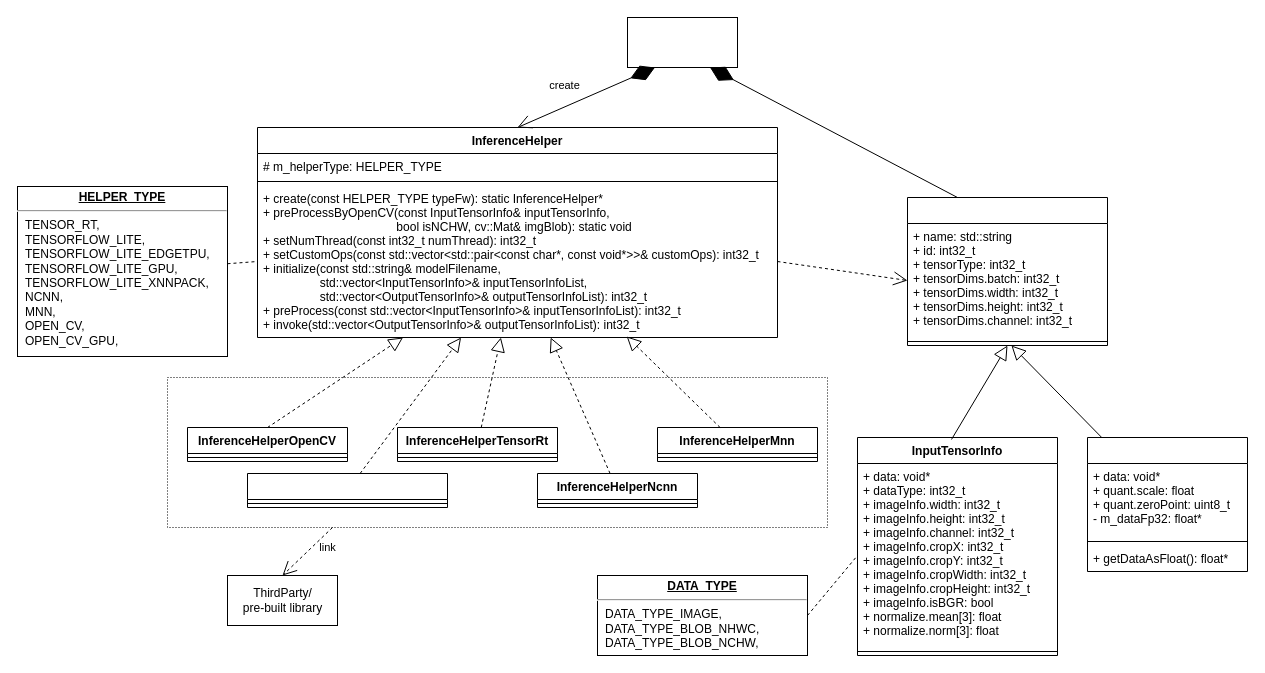
Image size: 1265x673. Some labels were removed from this diagram. The box of each missing label's shape, as (x1, y1, x2, y2) in pixels:
InferenceHelperTensorflowLite: (246, 472, 448, 508)
OutputTensorInfo: (1086, 436, 1248, 572)
TensorInfo: (906, 196, 1108, 346)
User code: (626, 16, 738, 68)
